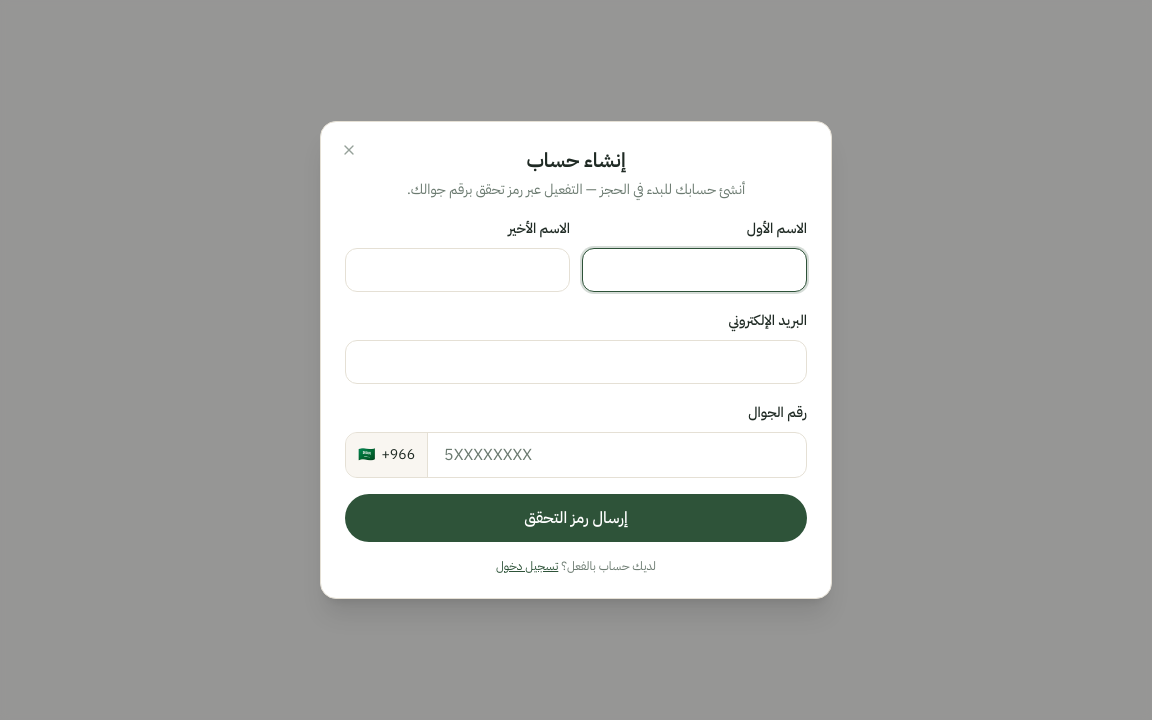
Test: sign-up › shows the server’s words and an immediate retry, and keeps what the guest typed
Type "فهد" into the field labelled "الاسم الأول" at (694, 270), box 582,248 -> 807,292
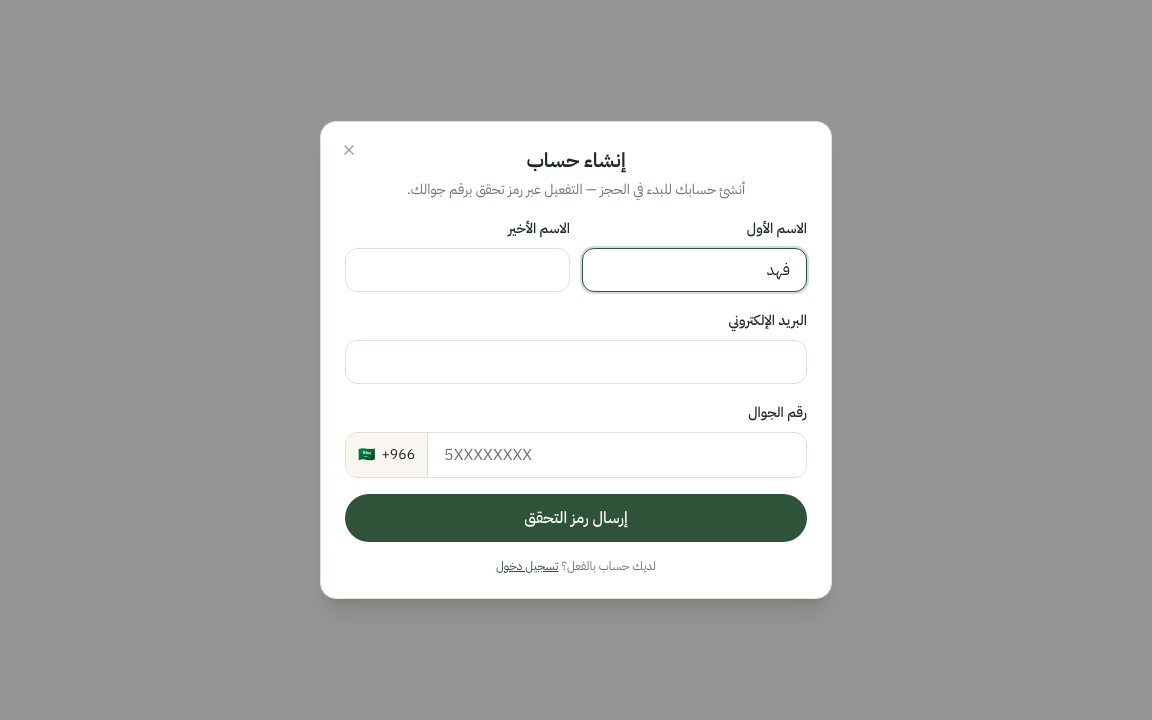
Type "يحيى" into the field labelled "الاسم الأخير" at (458, 270), box 345,248 -> 570,292
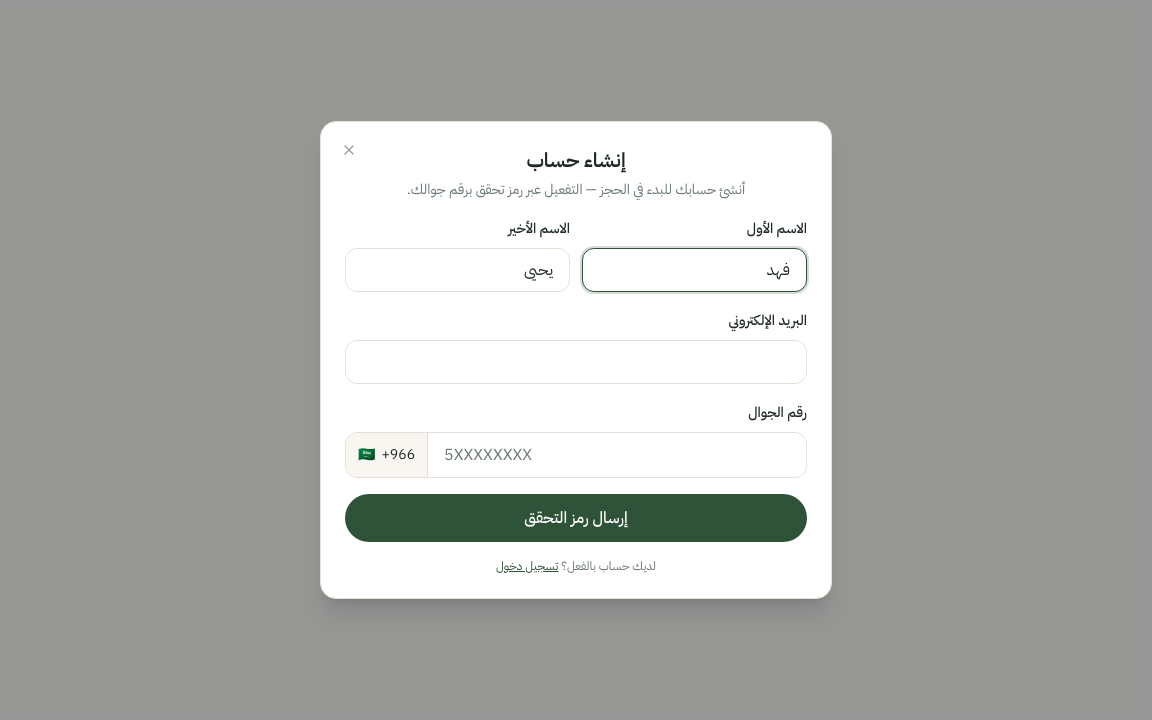
Type "fahad@example.com" into the field labelled "البريد الإلكتروني" at (576, 362), box 345,340 -> 807,384
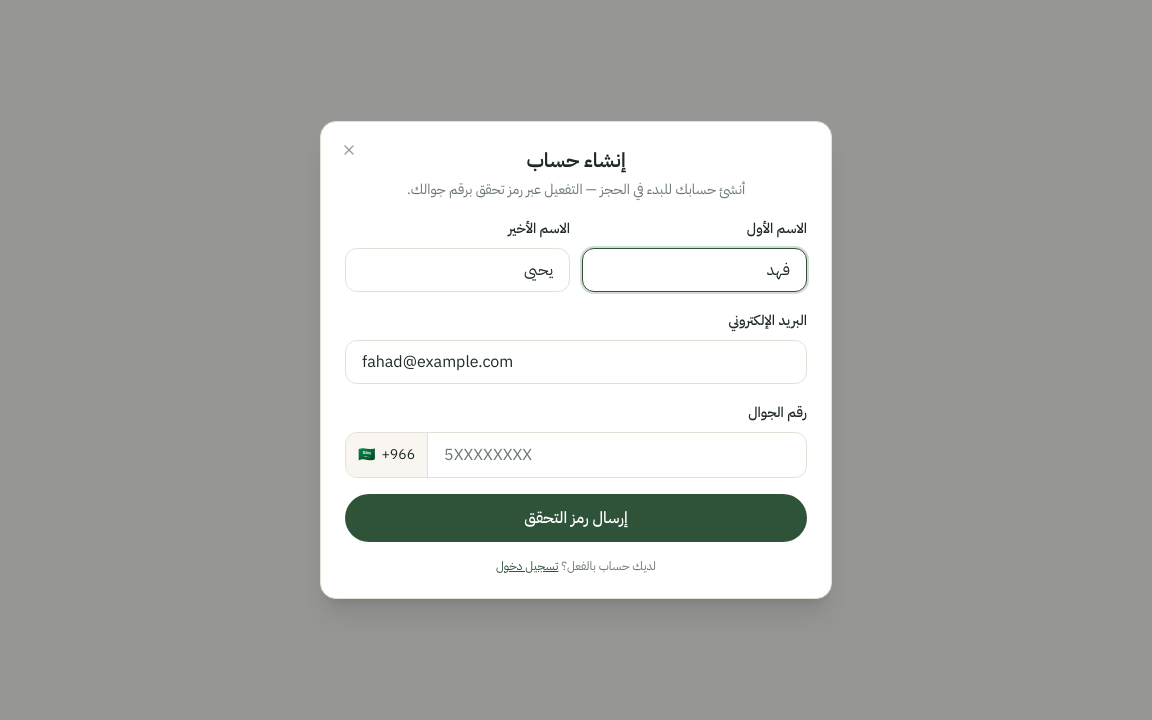
Type "500000503" into the field with placeholder "5XXXXXXXX" at (617, 455), box 428,433 -> 806,477
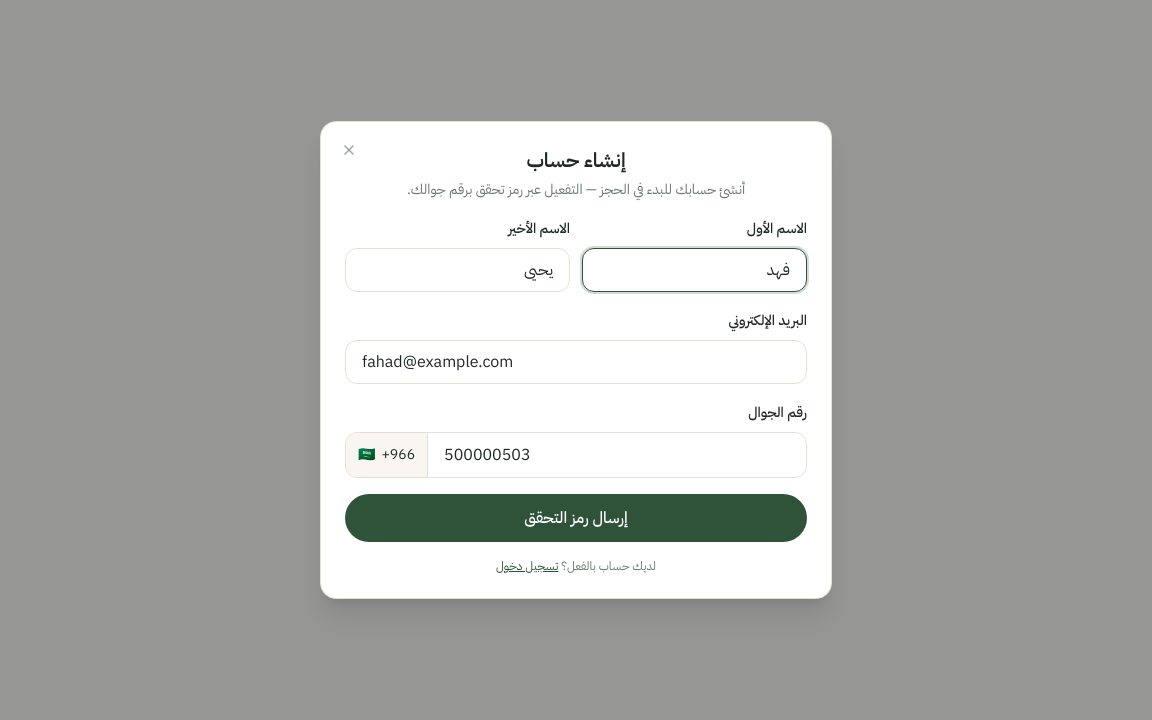
Click the button "إرسال رمز التحقق" at (576, 518), box 345,494 -> 807,542
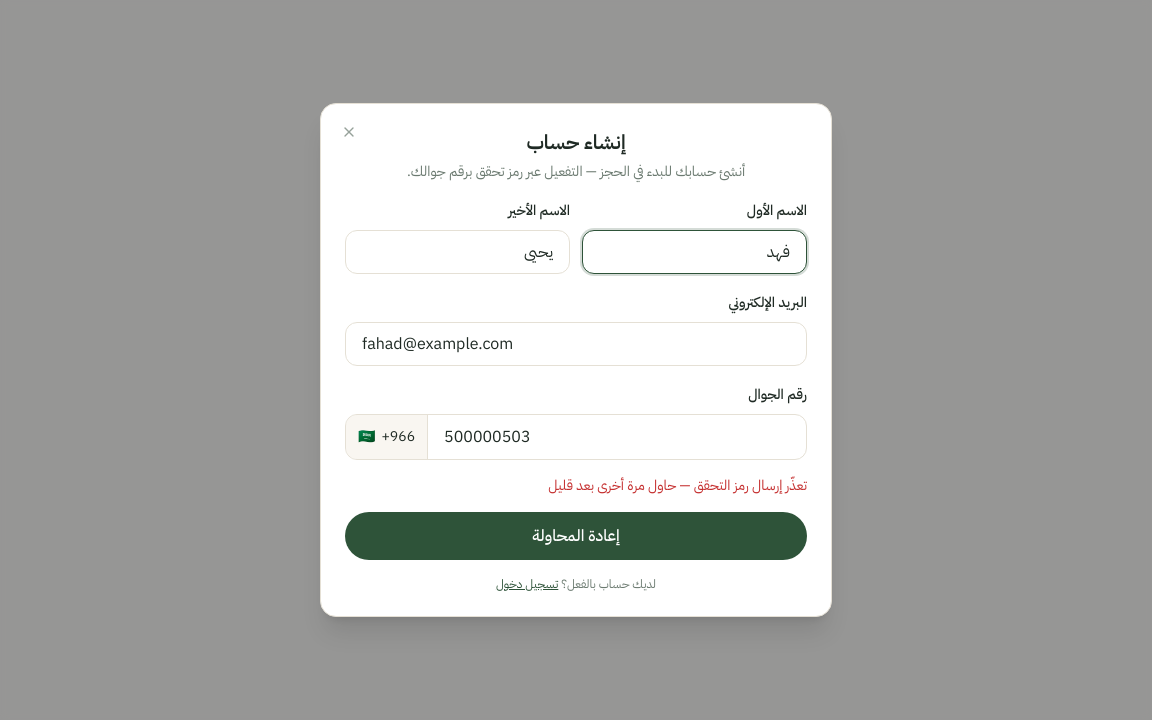
Check: the button "إعادة المحاولة" is enabled, box 345,512 -> 807,560
Check: the text "تعذّر إرسال رمز التحقق — حاول مرة أخرى بعد قليل" is shown, box 548,475 -> 807,496
